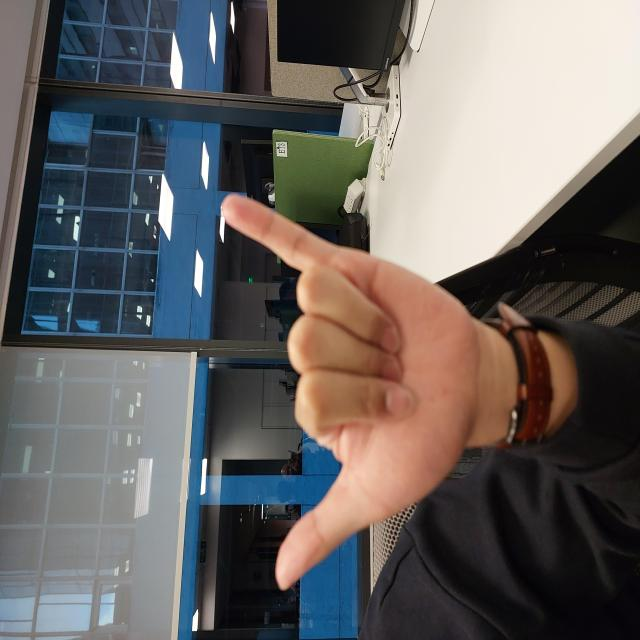Y: (50, 221, 445, 476)
